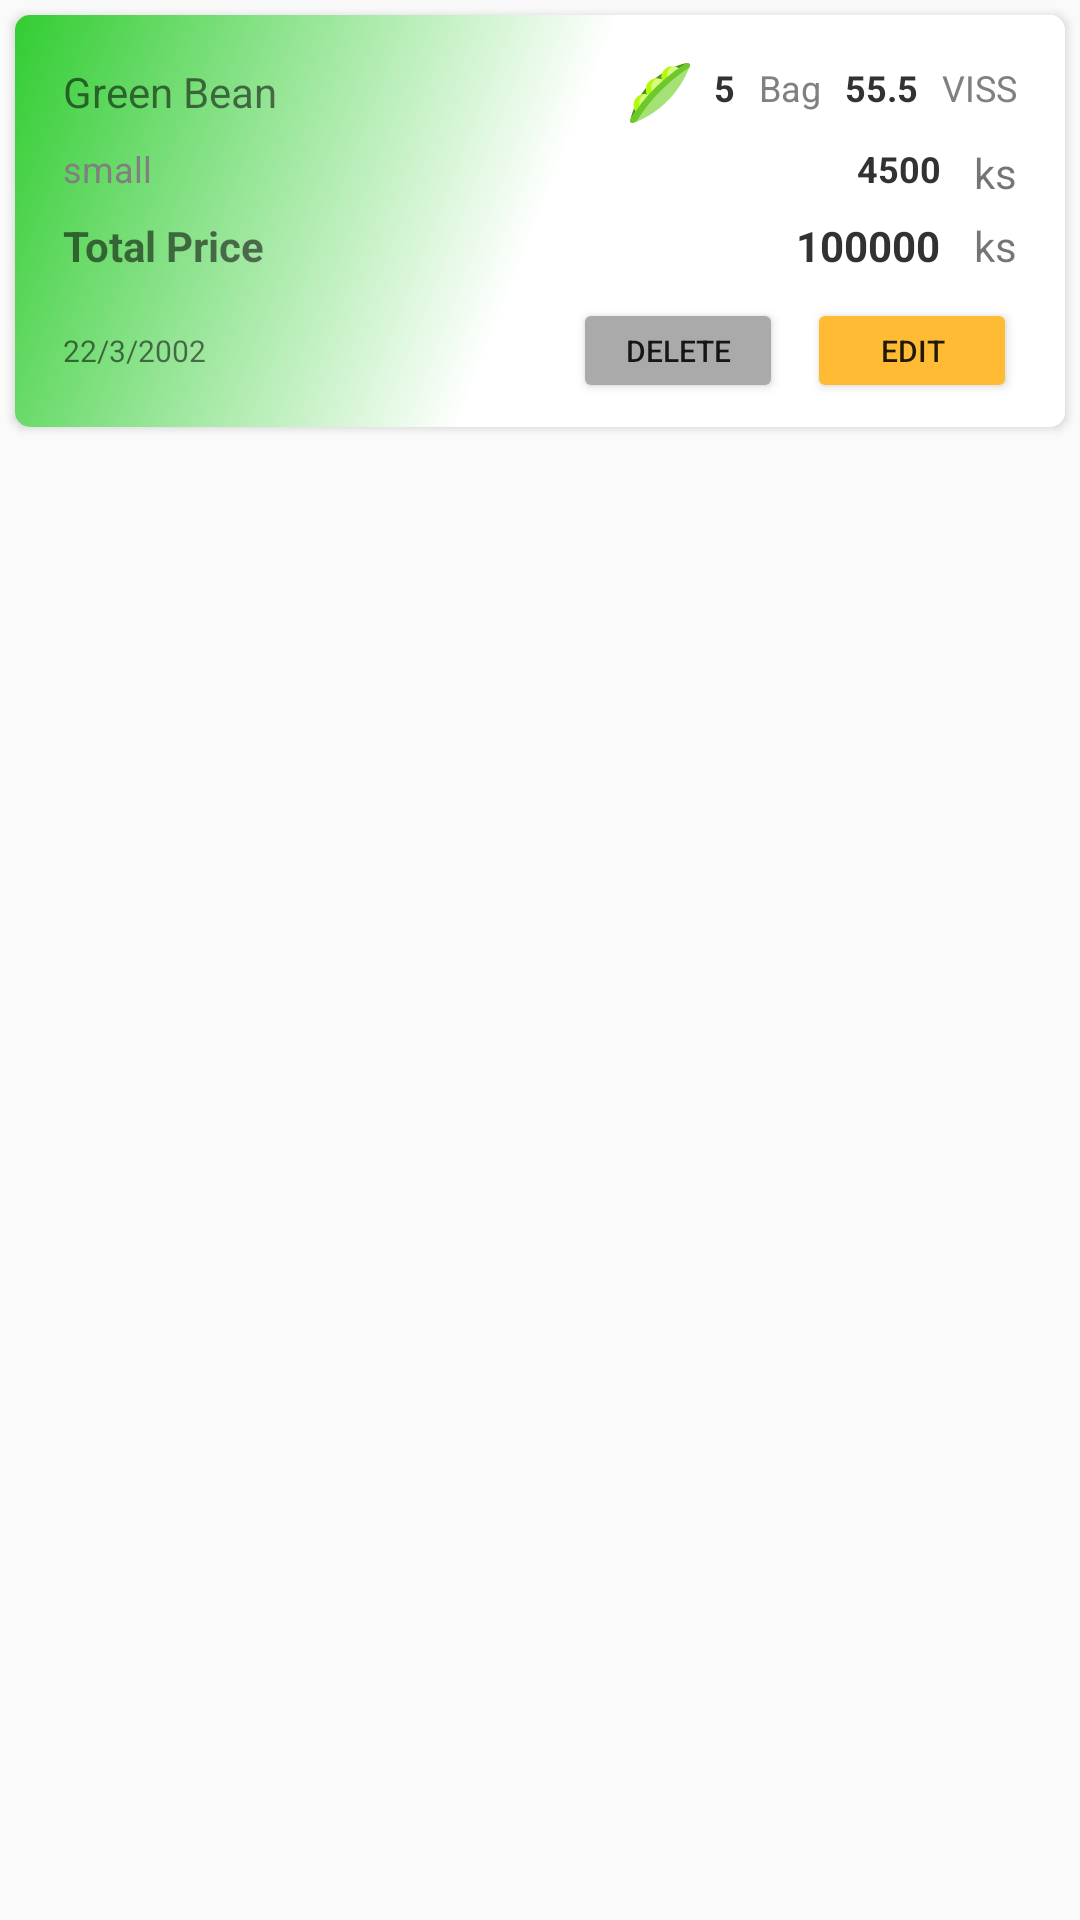

Icons on this 1080*1920 Android screen, each with the point to tap as [x,y]:
beans: [660,93]
